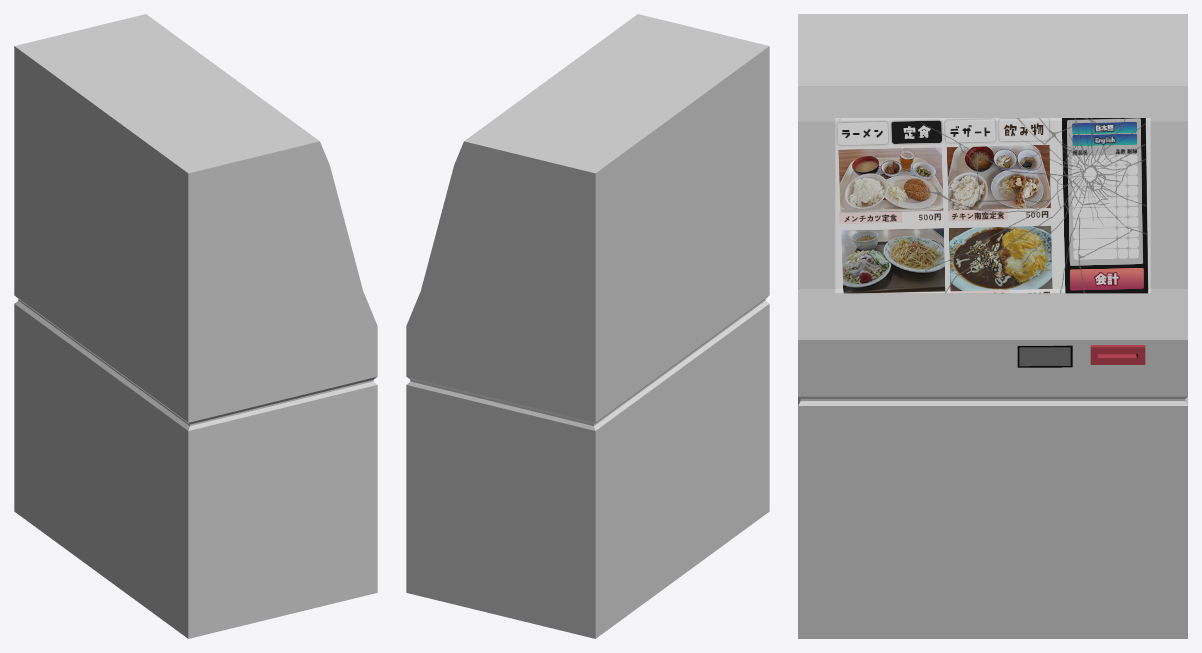
File: 券売機.fbx
3 views of the same model, side by side, from view 1: azimuth 30°, elevation 25°; view 2: azimuth 150°, elevation 25°; view 3: azimuth 270°, elevation 25° (orthographic). The views are drawn at different scales.
Visible parts, largest first — view 1: 立方体; view 2: 立方体; view 3: 立方体.
Part boxes in pixels (box(x1,y1,x2,y2)): 立方体: box(14, 14, 377, 638); 立方体: box(406, 14, 769, 638); 立方体: box(798, 14, 1187, 638).
Bounding box in the file's own units: 2.05 × 4.7 × 3.19.
